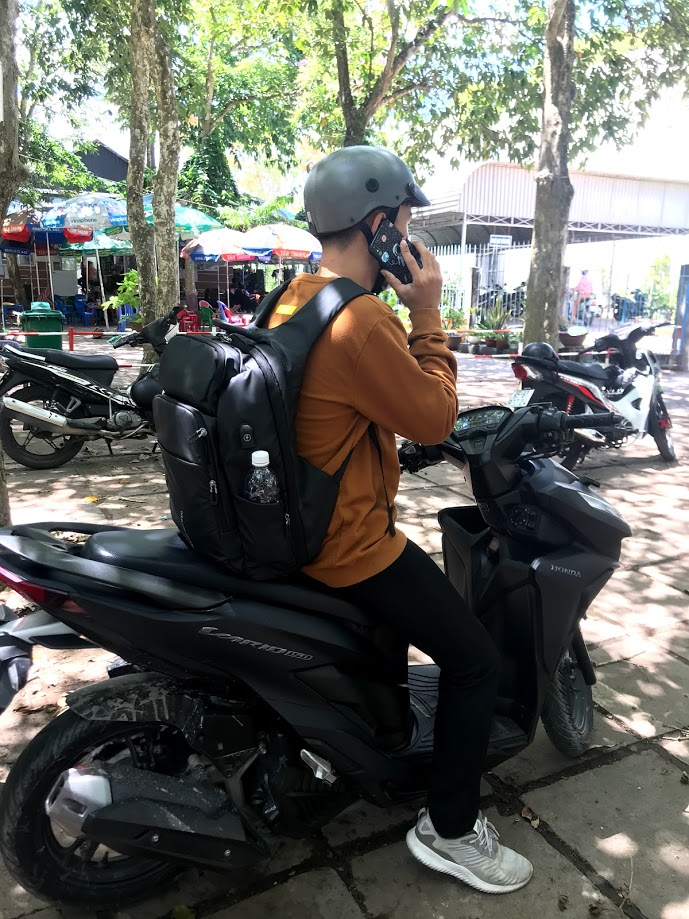dieu khien xe may: (298, 143, 627, 669)
su dung dien thoai: (303, 145, 444, 327)
